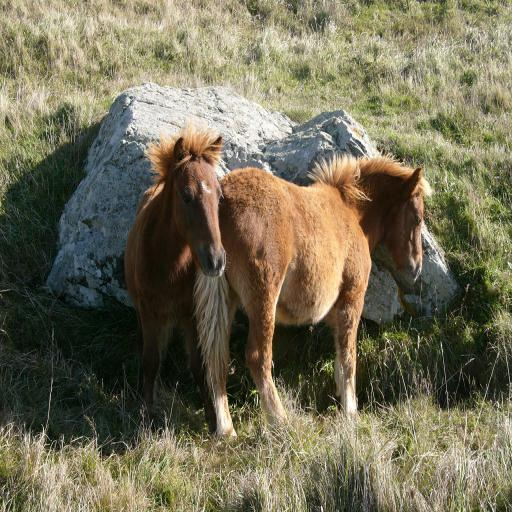horse: (216, 148, 426, 440), (118, 120, 226, 430)
